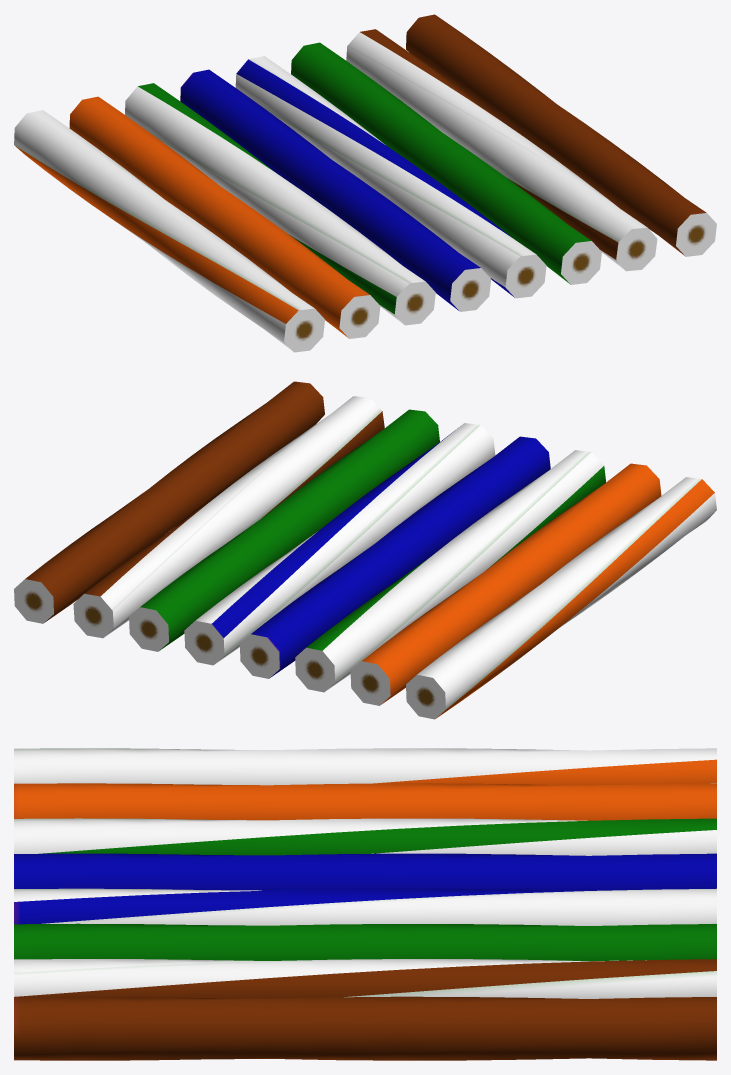
The model's file is lan_Wire.fbx.
3 renders of one model, top to bottom at view 1: azimuth 30°, elevation 25°; view 2: azimuth 150°, elevation 25°; view 3: azimuth 270°, elevation 25°, orthographic. The views are drawn at different scales.
Visible parts, largest first — view 1: lan_wire, lan_wire.007, lan_wire.006, lan_wire.003, lan_wire.001, lan_wire.005, lan_wire.002, lan_wire.004; view 2: lan_wire, lan_wire.007, lan_wire.006, lan_wire.002, lan_wire.003, lan_wire.005, lan_wire.001, lan_wire.004; view 3: lan_wire.007, lan_wire.006, lan_wire, lan_wire.001, lan_wire.002, lan_wire.003, lan_wire.004, lan_wire.005.
Part boxes in pixels (bbox=[...]): lan_wire: bbox=[14, 110, 324, 352]; lan_wire.007: bbox=[406, 14, 716, 256]; lan_wire.006: bbox=[346, 29, 657, 271]; lan_wire.003: bbox=[180, 69, 491, 311]; lan_wire.001: bbox=[69, 96, 380, 338]; lan_wire.005: bbox=[291, 42, 601, 284]; lan_wire.002: bbox=[125, 83, 435, 325]; lan_wire.004: bbox=[235, 56, 546, 298]; lan_wire: bbox=[406, 477, 716, 719]; lan_wire.007: bbox=[14, 381, 324, 623]; lan_wire.006: bbox=[73, 396, 384, 638]; lan_wire.002: bbox=[295, 450, 605, 692]; lan_wire.003: bbox=[239, 436, 550, 678]; lan_wire.005: bbox=[129, 409, 439, 651]; lan_wire.001: bbox=[350, 463, 661, 705]; lan_wire.004: bbox=[184, 423, 495, 665]; lan_wire.007: bbox=[14, 996, 716, 1060]; lan_wire.006: bbox=[14, 959, 716, 998]; lan_wire: bbox=[14, 748, 716, 785]; lan_wire.001: bbox=[14, 783, 716, 820]; lan_wire.002: bbox=[14, 818, 716, 855]; lan_wire.003: bbox=[14, 853, 716, 890]; lan_wire.004: bbox=[14, 888, 716, 925]; lan_wire.005: bbox=[14, 923, 716, 961].
Bounding box in the file's own units: 25.53 × 2.51 × 27.53.
